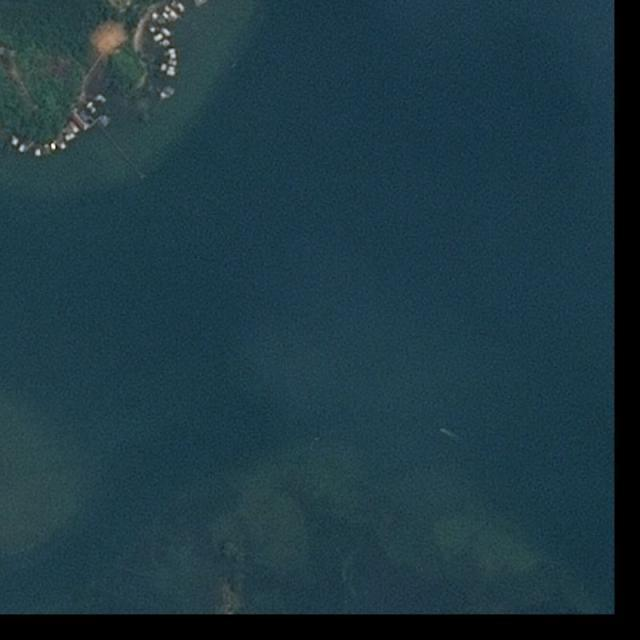ship: (438, 429, 444, 432)
